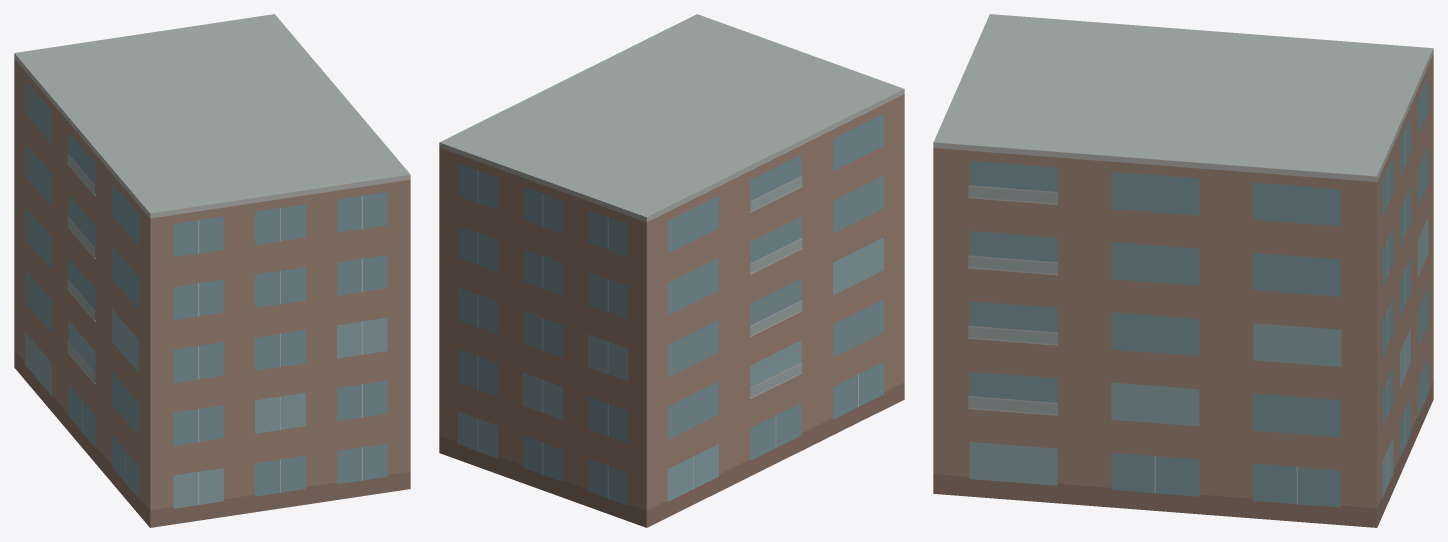
File: survey-upis-33000661.glb
The picture shows the model from 3 angles, left to right: view 1: azimuth 30°, elevation 25°; view 2: azimuth 150°, elevation 25°; view 3: azimuth 270°, elevation 25°; orthographic projection. The views are drawn at different scales.
Visible parts, largest first — view 1: survey-upis-33000661.tmp; view 2: survey-upis-33000661.tmp; view 3: survey-upis-33000661.tmp.
Boxes of the visible parts, x1,y1,x2,y2 form: survey-upis-33000661.tmp: (14, 14, 410, 527); survey-upis-33000661.tmp: (439, 14, 904, 527); survey-upis-33000661.tmp: (933, 14, 1433, 527).
Bounding box in the file's own units: 15.08 × 15.2 × 19.61.
